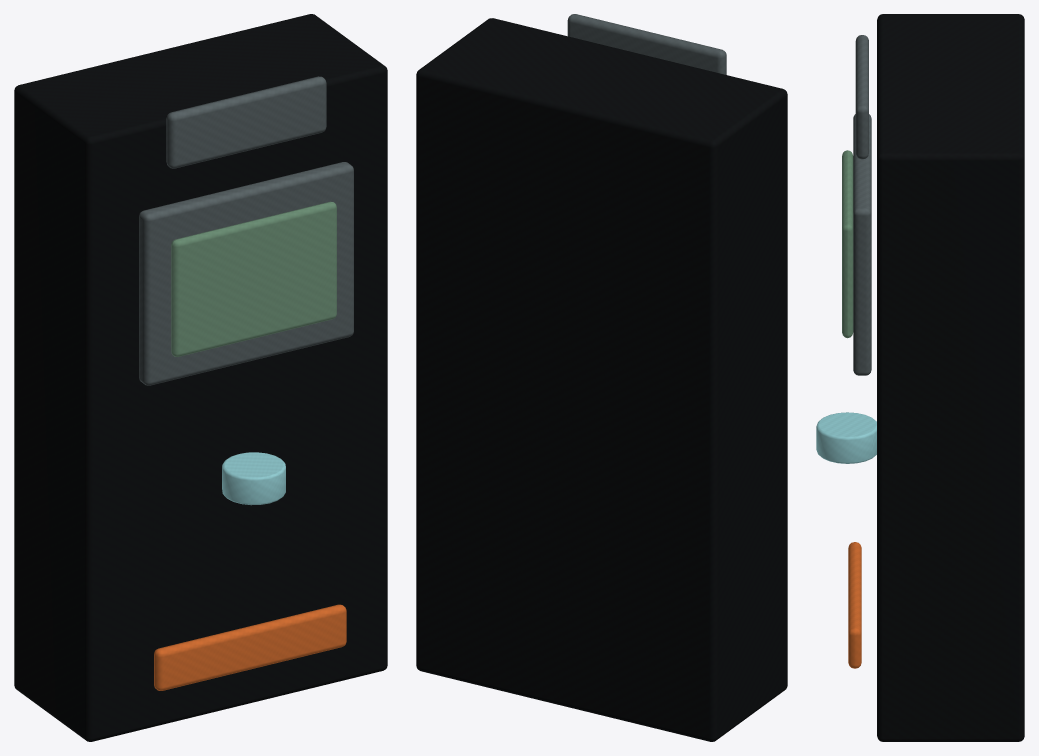
File: RadiationMeter.glb
3 renders of one model, left to right at view 1: azimuth 30°, elevation 25°; view 2: azimuth 150°, elevation 25°; view 3: azimuth 270°, elevation 25°, orthographic. The views are drawn at different scales.
Parts seen in each view (by area): view 1: RadiationMeter_Mesh; view 2: RadiationMeter_Mesh; view 3: RadiationMeter_Mesh.
Part boxes in pixels (x1=…): RadiationMeter_Mesh: x1=14, y1=14, x2=387, y2=741; RadiationMeter_Mesh: x1=416, y1=14, x2=787, y2=741; RadiationMeter_Mesh: x1=816, y1=14, x2=1024, y2=741.
Size of the model in its own units: 0.46 by 0.9 by 0.2825.
5 materials, 5 textured.
